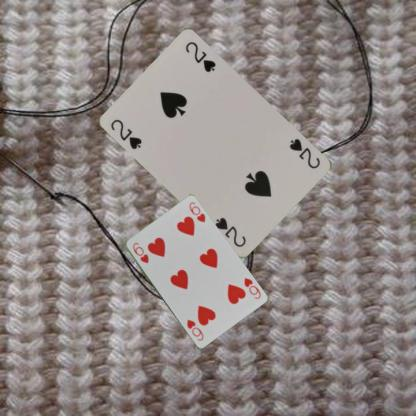2s: (108, 117, 144, 151), (287, 136, 322, 170)
6h: (241, 275, 262, 300), (130, 240, 150, 264)
